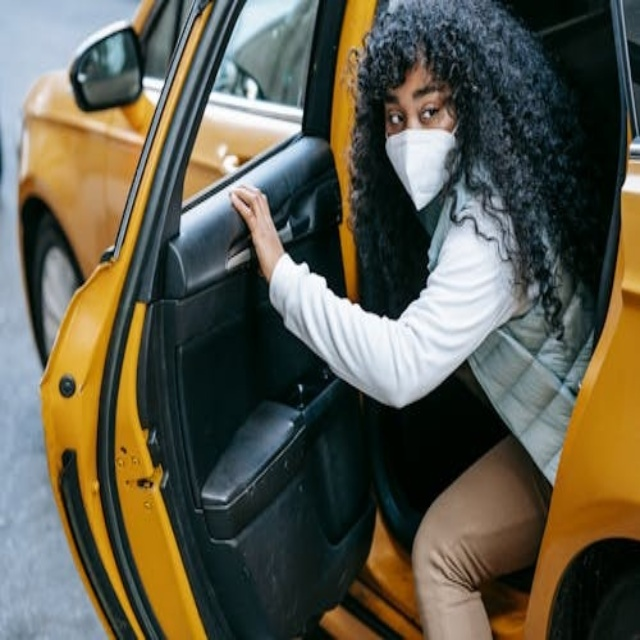Mascara: (384, 124, 460, 211)
Sin_gafas: (420, 106, 439, 121), (388, 111, 405, 126)
Sin_guantes: (229, 183, 284, 276)
